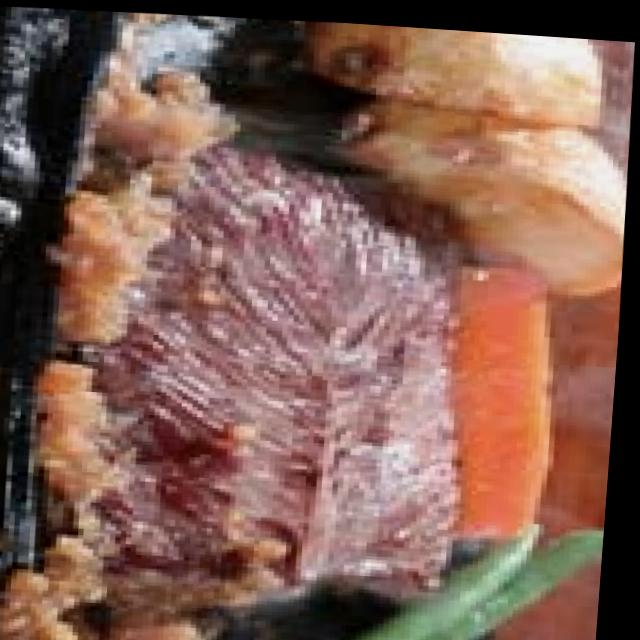牛肉菜式: (10, 122, 536, 622)
